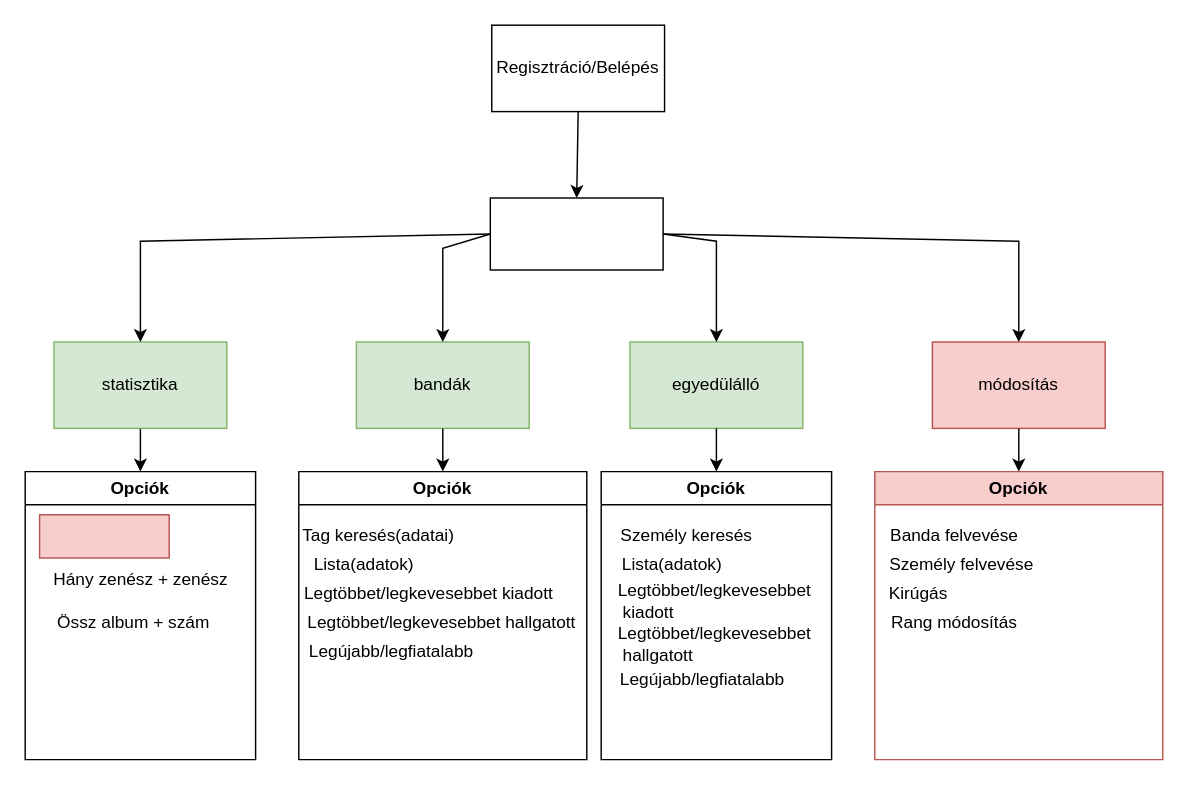
This 1188x785 diagram has some shape labels left out. Each missing label, with the centre of its shape:
"Havi bevétel" goes at point 103,535.
"menu" goes at point 576,233.
